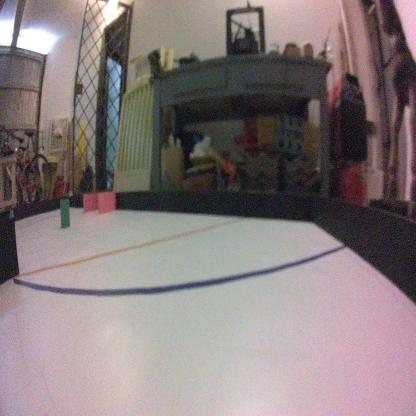green: (57, 198, 71, 227)
magenta: (82, 186, 100, 210), (96, 191, 112, 213)
